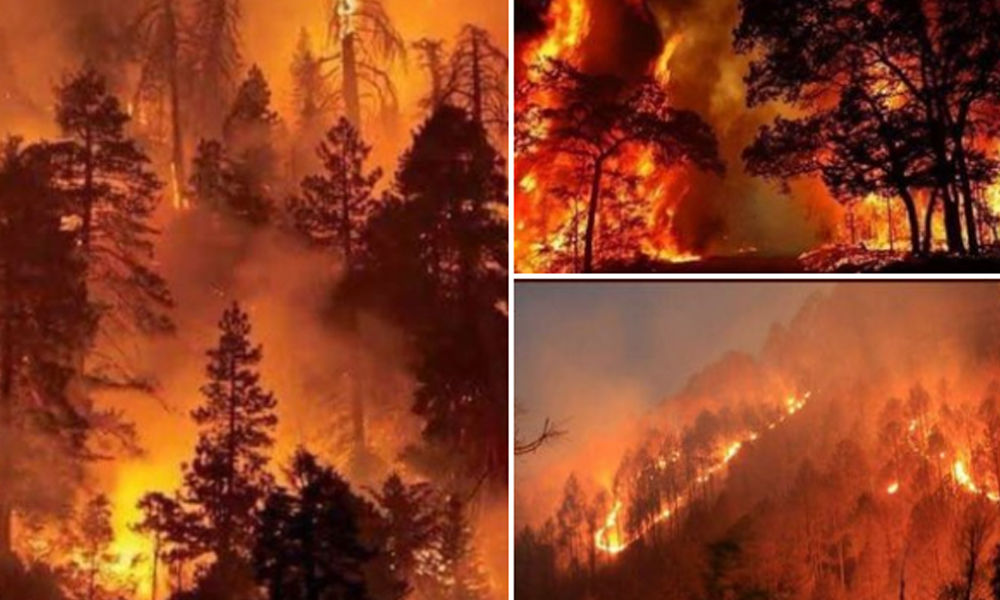fire: (520, 6, 680, 266), (98, 470, 163, 587), (589, 502, 634, 553)
